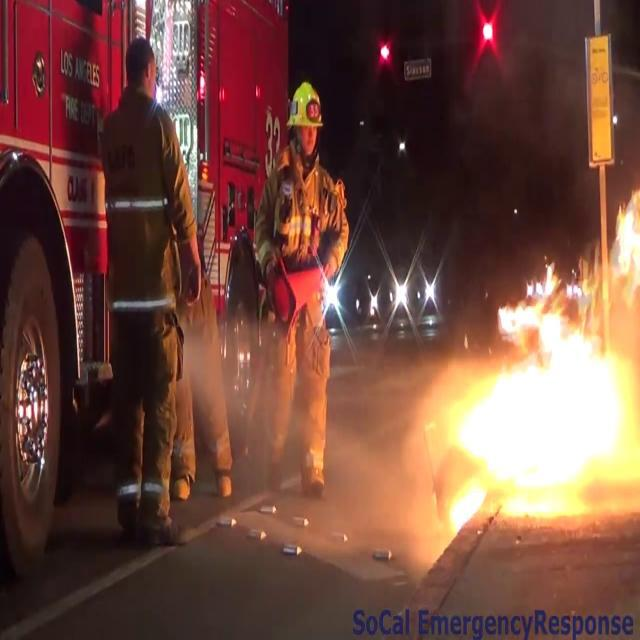Fire: (433, 194, 640, 535)
